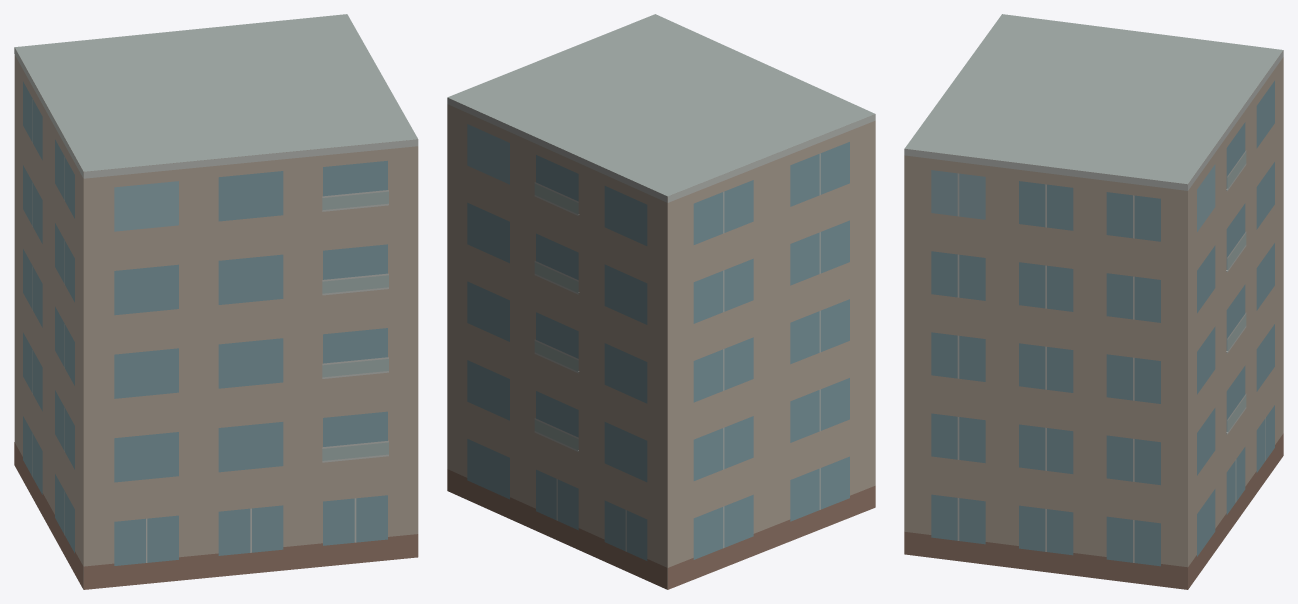
Rendered from survey-upis-32868345.glb.
3 renders of one model, left to right at view 1: azimuth 30°, elevation 25°; view 2: azimuth 150°, elevation 25°; view 3: azimuth 270°, elevation 25°, orthographic. The views are drawn at different scales.
Parts seen in each view (by area): view 1: survey-upis-32868345.tmp; view 2: survey-upis-32868345.tmp; view 3: survey-upis-32868345.tmp.
Part boxes in pixels (x1=…): survey-upis-32868345.tmp: x1=14, y1=14, x2=418, y2=589; survey-upis-32868345.tmp: x1=447, y1=14, x2=875, y2=589; survey-upis-32868345.tmp: x1=904, y1=14, x2=1283, y2=589.
Size of the model in its own units: 13.24 by 14.7 by 12.46.
